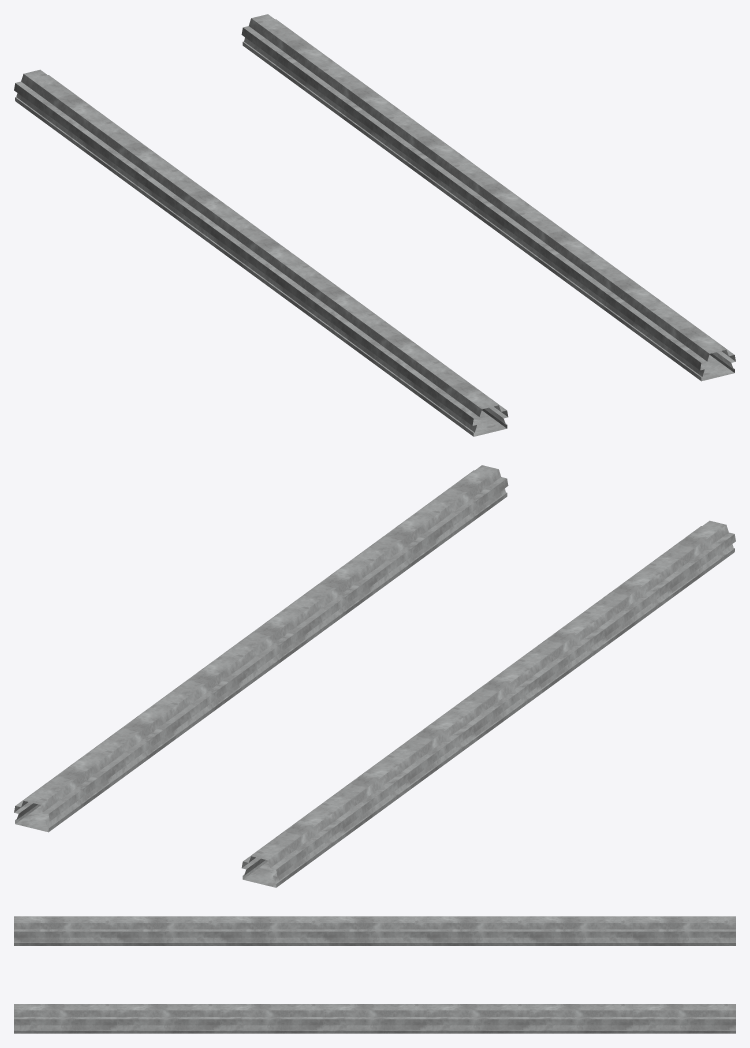
Rendered from CraneRailStraightTop.fbx.
3 renders of one model, top to bottom at view 1: azimuth 30°, elevation 25°; view 2: azimuth 150°, elevation 25°; view 3: azimuth 270°, elevation 25°, orthographic. The views are drawn at different scales.
Parts seen in each view (by area): view 1: Rail.001; view 2: Rail.001; view 3: Rail.001.
Part boxes in pixels (x1=…): Rail.001: x1=14, y1=14, x2=735, y2=436; Rail.001: x1=14, y1=465, x2=735, y2=887; Rail.001: x1=14, y1=916, x2=735, y2=1033.
Bounding box in the file's own units: 1852 × 171 × 5582.
